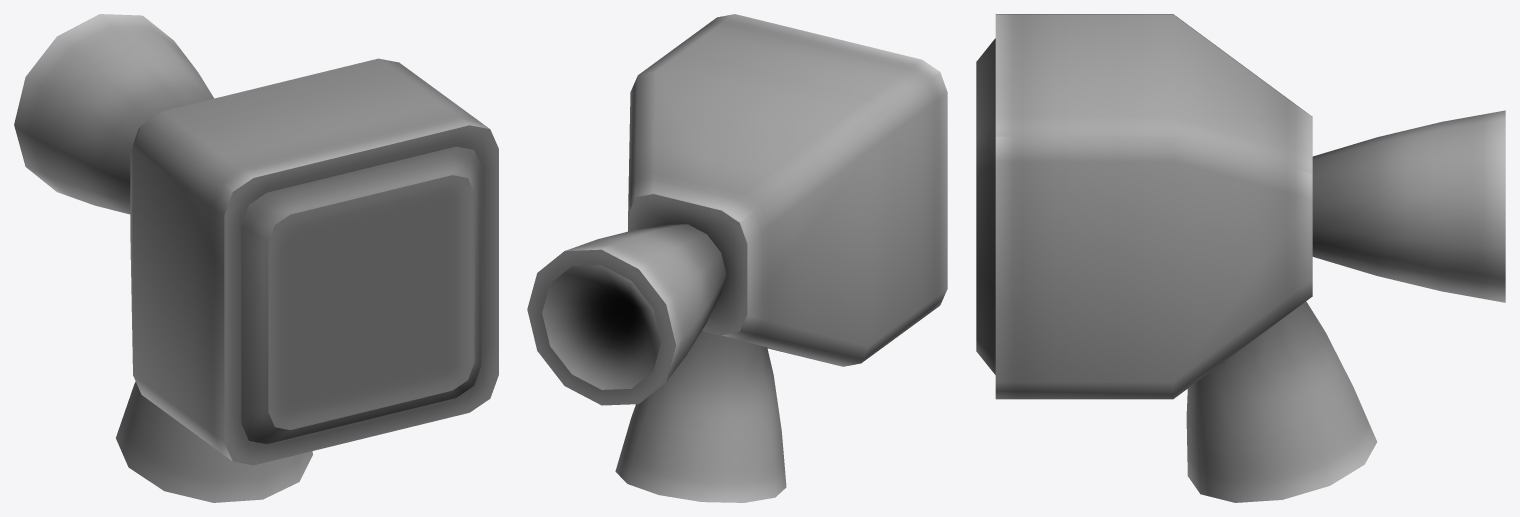
Rendered from Tantares_RCS_4_E.obj.
3 renders of one model, left to right at view 1: azimuth 30°, elevation 25°; view 2: azimuth 150°, elevation 25°; view 3: azimuth 270°, elevation 25°, orthographic. The views are drawn at different scales.
Parts seen in each view (by area): view 1: Tantares_RCS_4_E; view 2: Tantares_RCS_4_E; view 3: Tantares_RCS_4_E.
Boxes of the visible parts, <box> form: Tantares_RCS_4_E: <box>14,14,498,502</box>; Tantares_RCS_4_E: <box>527,14,947,502</box>; Tantares_RCS_4_E: <box>976,14,1505,502</box>.
Size of the model in its own units: 0.1 by 0.1461 by 0.1712.
